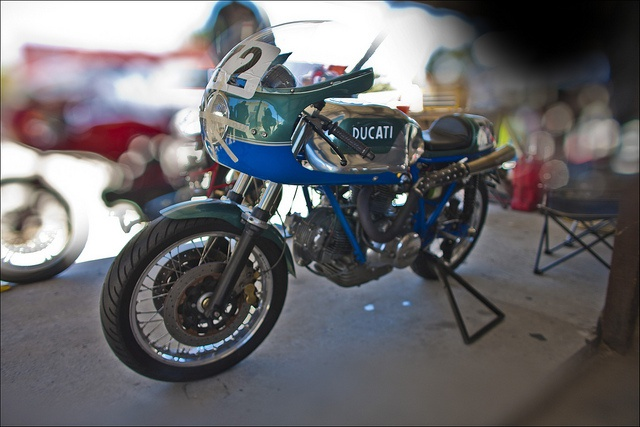non-vehicle: (93, 18, 513, 388), (0, 138, 146, 281)
